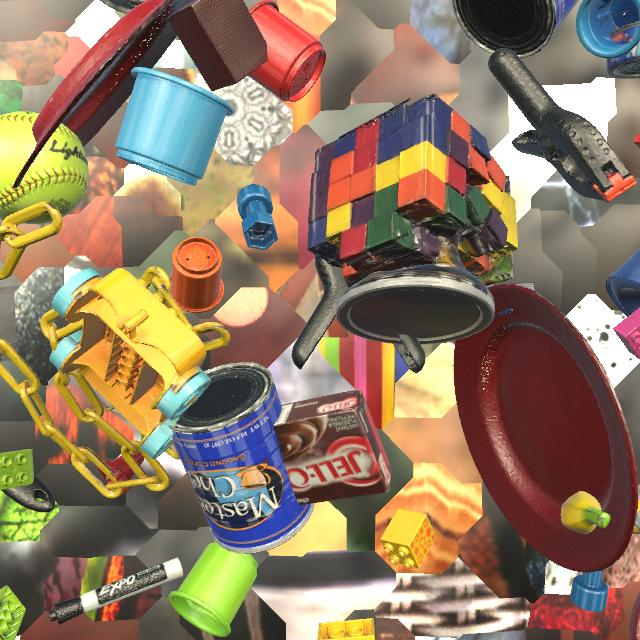ycb_002_master_chef_can: (161, 362, 314, 554), (452, 0, 579, 59), (635, 484, 640, 531)
ycb_005_tomato_soup_can: (100, 0, 167, 20)
ycb_007_tuna_fish_can: (606, 21, 640, 79)
ycb_008_pudding_box: (273, 389, 392, 505)
ycb_009_gelatin_box: (633, 133, 640, 148)
ycb_011_banana: (561, 491, 640, 534)
